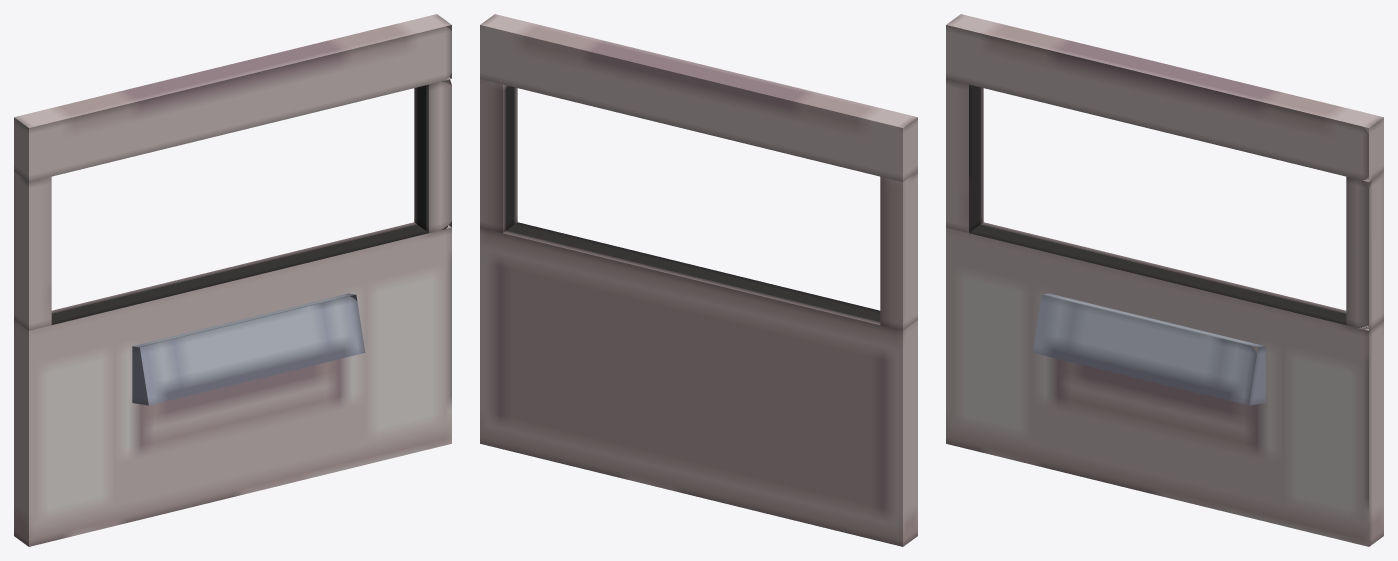
Rendered from wuling_large_back_door.obj.
3 renders of one model, left to right at view 1: azimuth 30°, elevation 25°; view 2: azimuth 150°, elevation 25°; view 3: azimuth 330°, elevation 25°, orthographic.
Parts seen in each view (by area): view 1: cube; view 2: cube; view 3: cube.
Boxes of the visible parts, x1,y1,x2,y2 form: cube: (14, 14, 451, 546); cube: (480, 14, 917, 546); cube: (946, 14, 1383, 546).
Bounding box in the file's own units: 2.05 × 1.94 × 0.2645.
